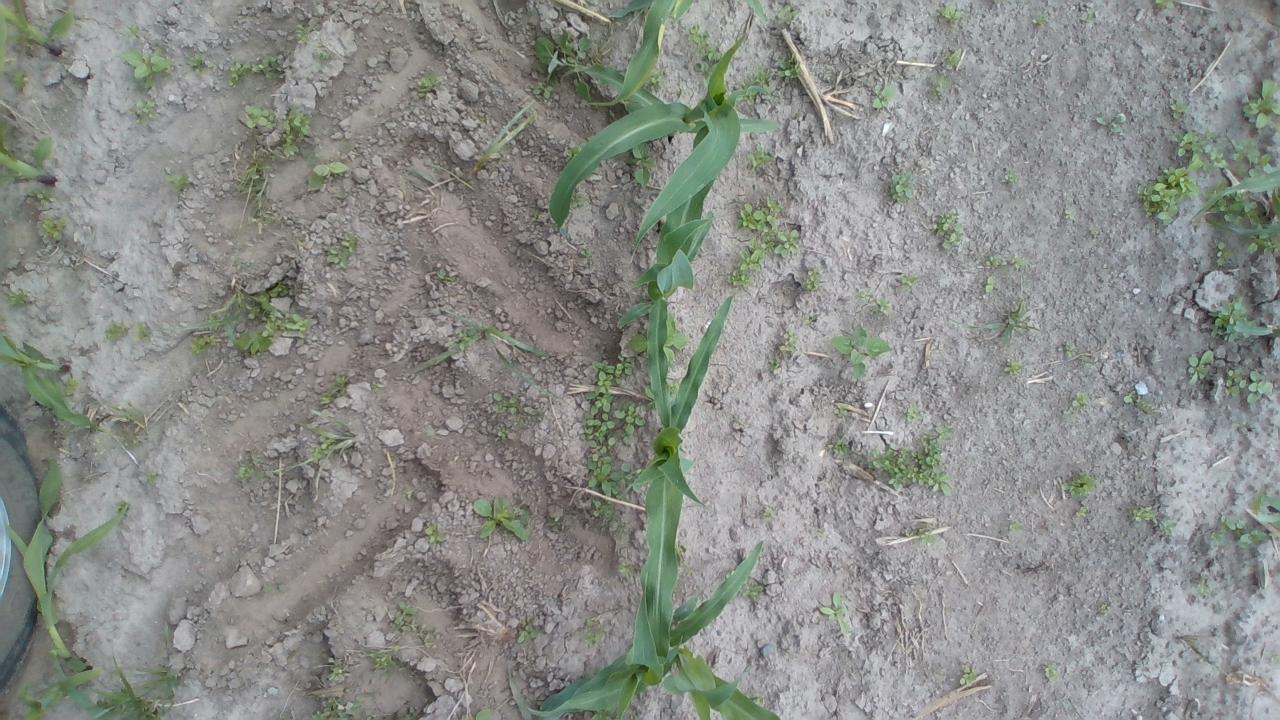Maize: (538, 26, 786, 254), (497, 542, 796, 720), (634, 282, 742, 672), (616, 140, 728, 441), (17, 451, 136, 720), (601, 0, 766, 107), (0, 323, 103, 439), (0, 0, 84, 90), (0, 116, 67, 200)
Weeds: (1132, 130, 1280, 270), (402, 98, 540, 192), (578, 350, 644, 530), (412, 307, 546, 387), (209, 270, 315, 358), (862, 423, 958, 505), (522, 30, 606, 110), (82, 664, 195, 720), (738, 192, 804, 260), (464, 492, 540, 548), (1206, 492, 1280, 549), (1208, 292, 1277, 350), (291, 410, 363, 464), (950, 303, 1044, 344), (242, 106, 308, 162), (486, 384, 546, 444), (309, 654, 362, 720), (835, 322, 892, 383), (1056, 463, 1107, 523), (118, 46, 182, 92), (240, 160, 278, 232), (224, 52, 290, 93), (106, 398, 152, 450), (686, 25, 728, 80), (1240, 75, 1280, 130), (304, 150, 351, 194), (390, 602, 438, 644), (361, 640, 414, 678), (929, 205, 968, 256), (738, 61, 778, 110), (728, 238, 766, 289), (322, 228, 364, 272), (817, 590, 853, 640), (899, 510, 944, 547), (1182, 348, 1218, 391), (316, 368, 354, 408), (628, 139, 659, 188), (1120, 388, 1164, 422), (664, 312, 689, 369), (974, 251, 1032, 275), (1216, 362, 1246, 404), (1243, 368, 1274, 408), (576, 618, 612, 652), (1093, 106, 1133, 136), (412, 70, 448, 103), (885, 170, 917, 206), (255, 575, 297, 601), (776, 326, 809, 359), (774, 57, 809, 87), (821, 436, 856, 466), (37, 214, 69, 246), (234, 458, 266, 490), (1160, 96, 1192, 127), (365, 704, 423, 720), (745, 140, 772, 174), (187, 326, 215, 358), (870, 82, 895, 117), (288, 23, 318, 52), (182, 45, 210, 76), (126, 100, 162, 124), (771, 1, 805, 26), (428, 268, 458, 296), (999, 350, 1030, 377), (937, 0, 968, 26), (0, 284, 31, 310), (1192, 569, 1218, 600), (63, 372, 88, 404), (514, 620, 544, 646), (128, 320, 156, 346), (99, 320, 127, 346), (1129, 500, 1158, 525), (801, 262, 822, 296), (939, 48, 966, 74), (980, 276, 1006, 303), (28, 185, 59, 207), (898, 407, 932, 427), (926, 78, 954, 102), (166, 171, 194, 195), (1066, 390, 1094, 414), (766, 355, 797, 376), (136, 461, 160, 488), (426, 524, 452, 548), (830, 398, 856, 422), (124, 21, 154, 41), (542, 504, 566, 528), (562, 140, 588, 162), (1028, 10, 1056, 30), (572, 243, 596, 266), (626, 332, 649, 356), (610, 557, 636, 576), (998, 166, 1024, 185), (744, 578, 766, 600), (160, 622, 180, 645), (1144, 0, 1181, 12), (1154, 521, 1180, 538), (758, 505, 778, 526), (958, 669, 978, 690), (1060, 205, 1080, 225), (528, 204, 548, 222), (1096, 595, 1112, 617), (470, 704, 492, 720), (574, 192, 590, 212), (854, 286, 874, 302), (1060, 335, 1075, 356), (1044, 664, 1059, 685), (899, 274, 918, 290), (318, 47, 334, 66), (1264, 650, 1280, 669), (801, 314, 821, 328), (878, 300, 895, 316), (648, 71, 664, 86), (1008, 522, 1024, 534)
